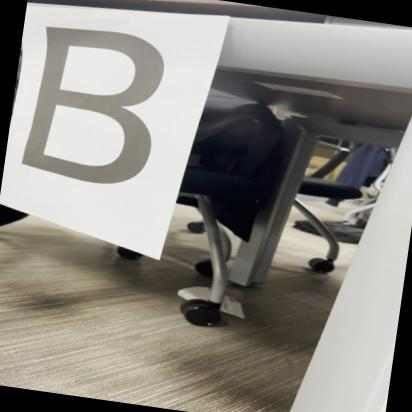seat: (9, 16, 187, 204)
